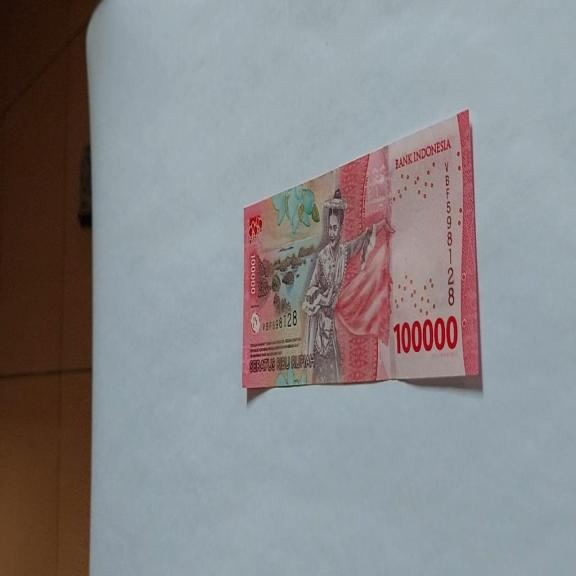Kertas: (392, 314, 458, 355)
